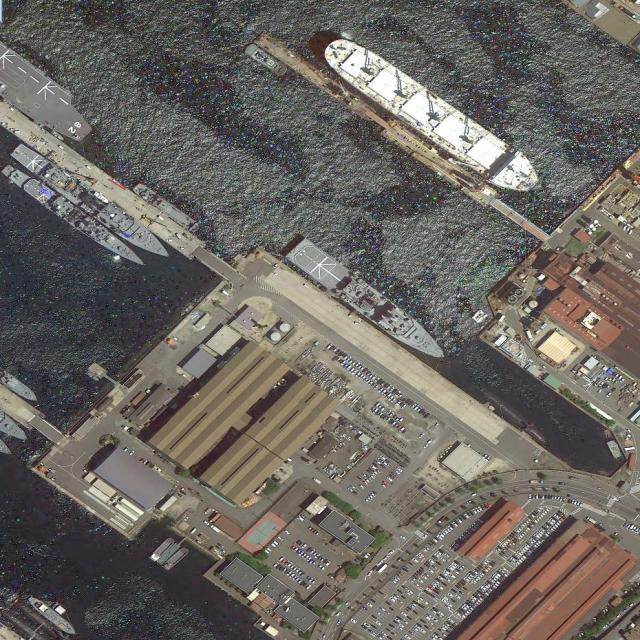Cargo: (316, 28, 547, 204)
Destroyer: (8, 136, 176, 267), (1, 160, 151, 270)
Dock: (244, 27, 554, 246)
Landing: (284, 234, 455, 370)
Other Warship: (284, 234, 451, 367), (131, 180, 204, 237), (132, 181, 202, 235), (23, 588, 79, 639)
Submarine: (479, 385, 549, 447)
